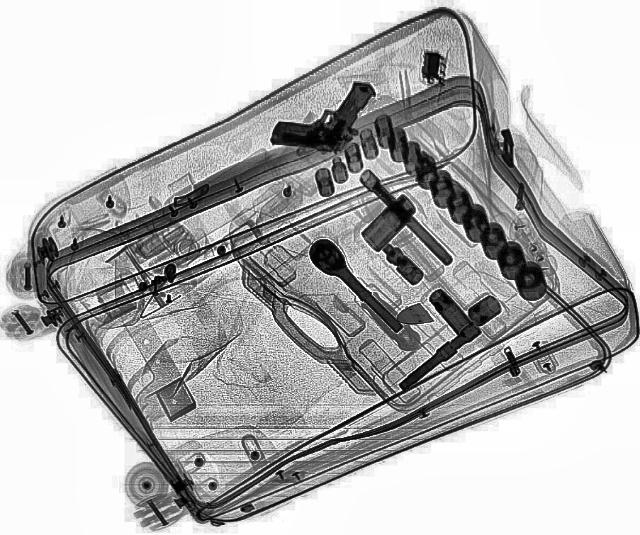Gun: (264, 62, 380, 164)
